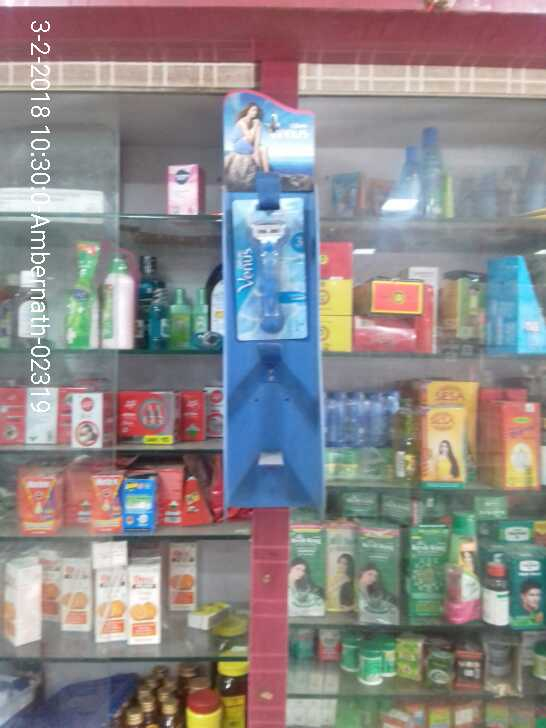venus: (241, 198, 311, 333)
